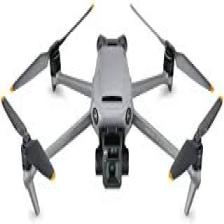drone: (8, 0, 218, 224)
